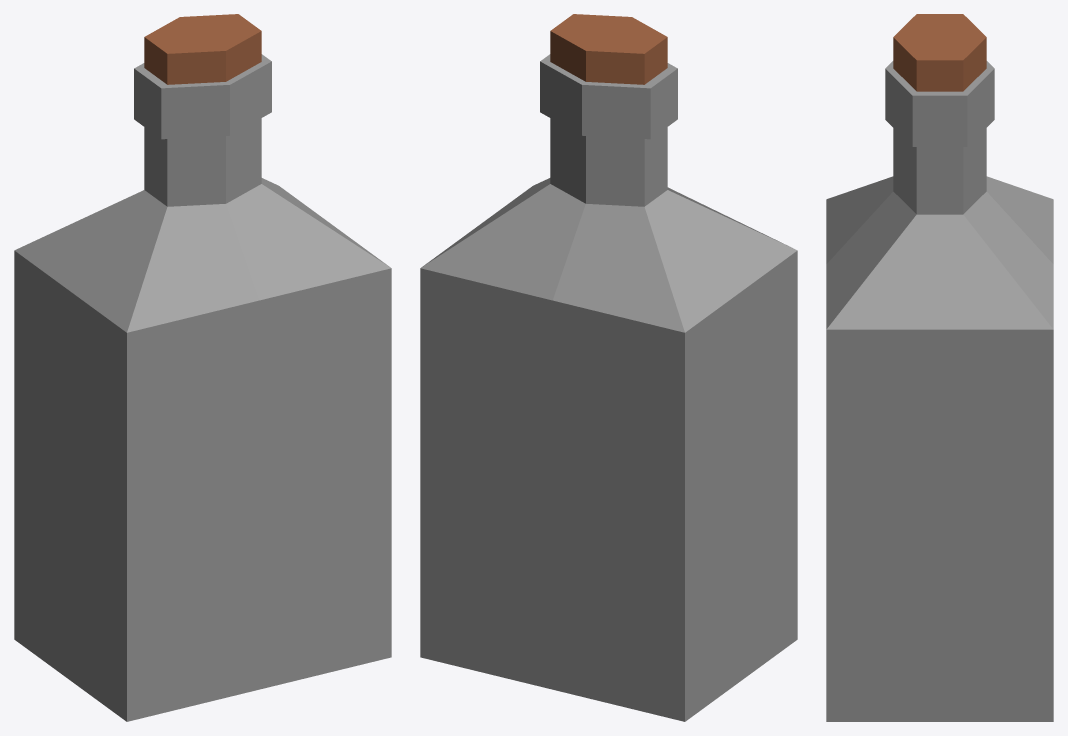
File: flask_2.glb
The picture shows the model from 3 angles, left to right: view 1: azimuth 30°, elevation 25°; view 2: azimuth 150°, elevation 25°; view 3: azimuth 270°, elevation 25°; orthographic projection.
Parts seen in each view (by area): view 1: flask_2; view 2: flask_2; view 3: flask_2.
Part boxes in pixels (x1,y1,x2,y2): flask_2: (14, 14, 391, 721); flask_2: (420, 14, 797, 721); flask_2: (826, 14, 1053, 721).
Bounding box in the file's own units: 0.0735 × 0.163 × 0.0541.
1 material, 1 textured.
